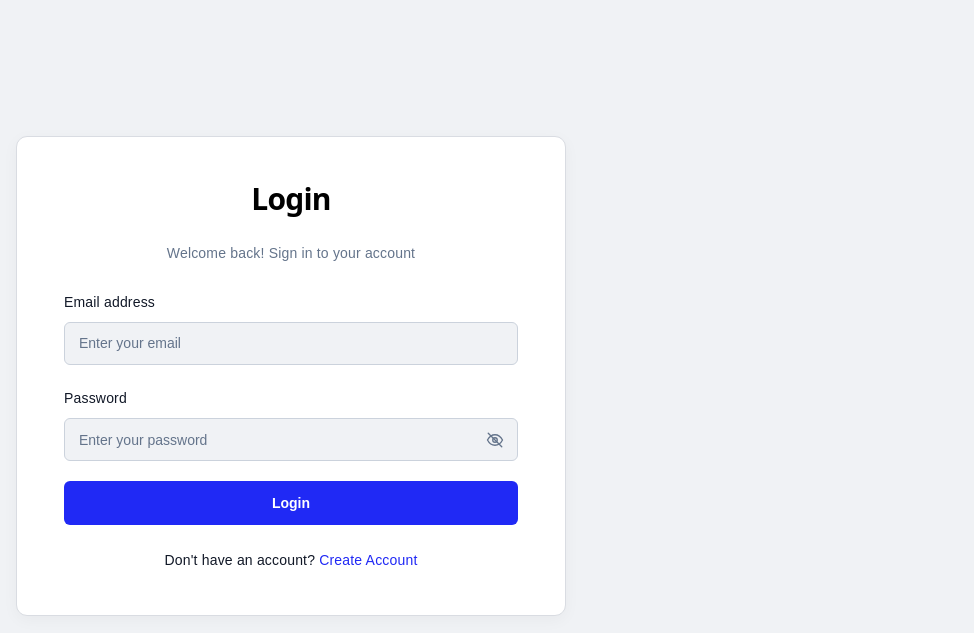
Test case: Login component › displays the backend error message when login fails
Step 1. Type "test@example.com" into the field labelled "Email address" → x=291, y=344, box [64, 322, 518, 365]
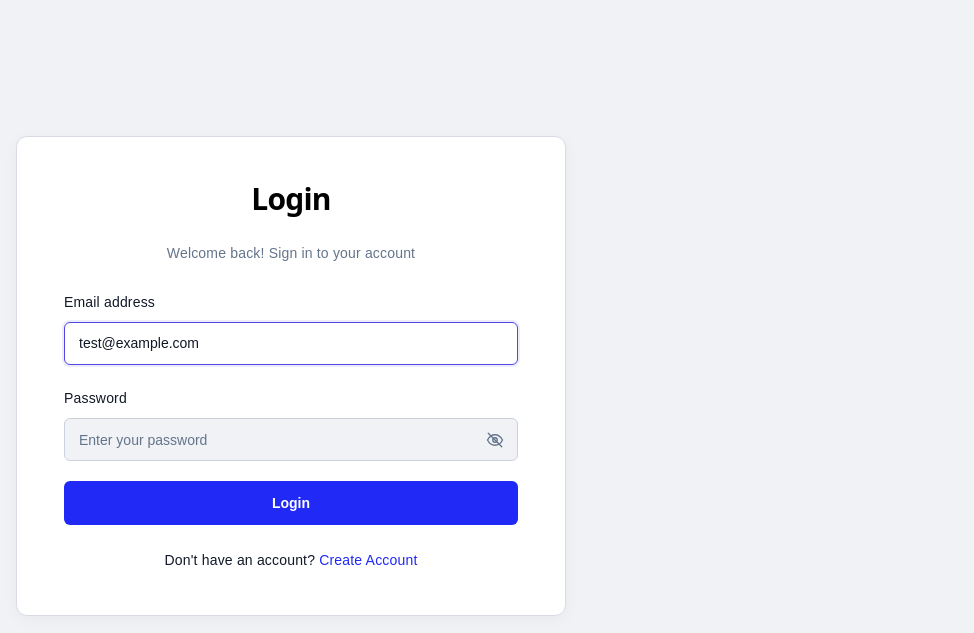
Step 2. Type "Password123!" into the password field labelled "Password" → x=291, y=440, box [64, 418, 518, 461]
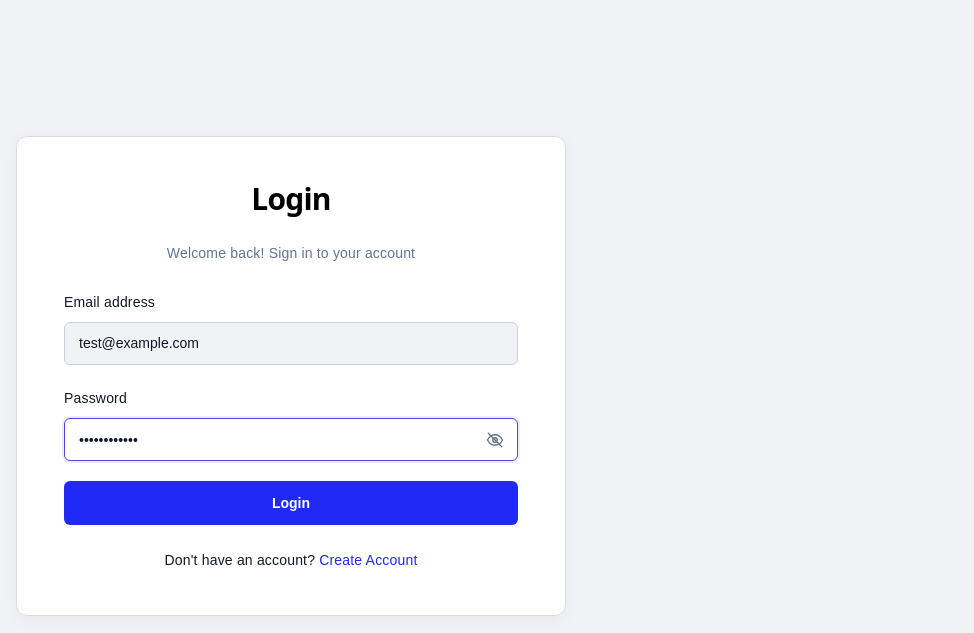
Step 3. Click the button "Login" → x=291, y=503, box [64, 481, 518, 525]
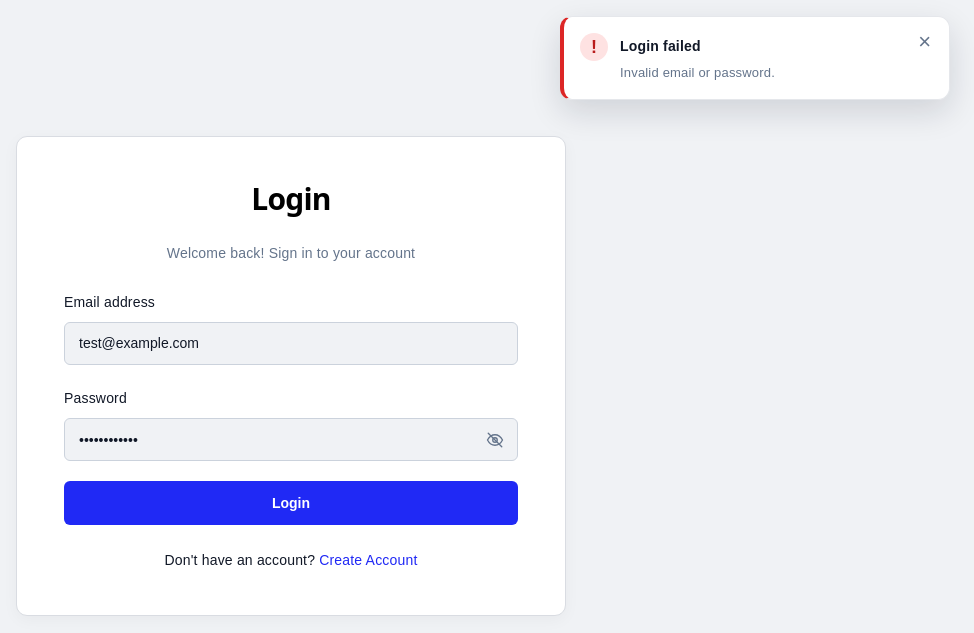
Check: the text "Invalid email or password." is shown, box [620, 65, 775, 80]
Check: the text "Login failed" is shown, box [620, 38, 701, 54]
